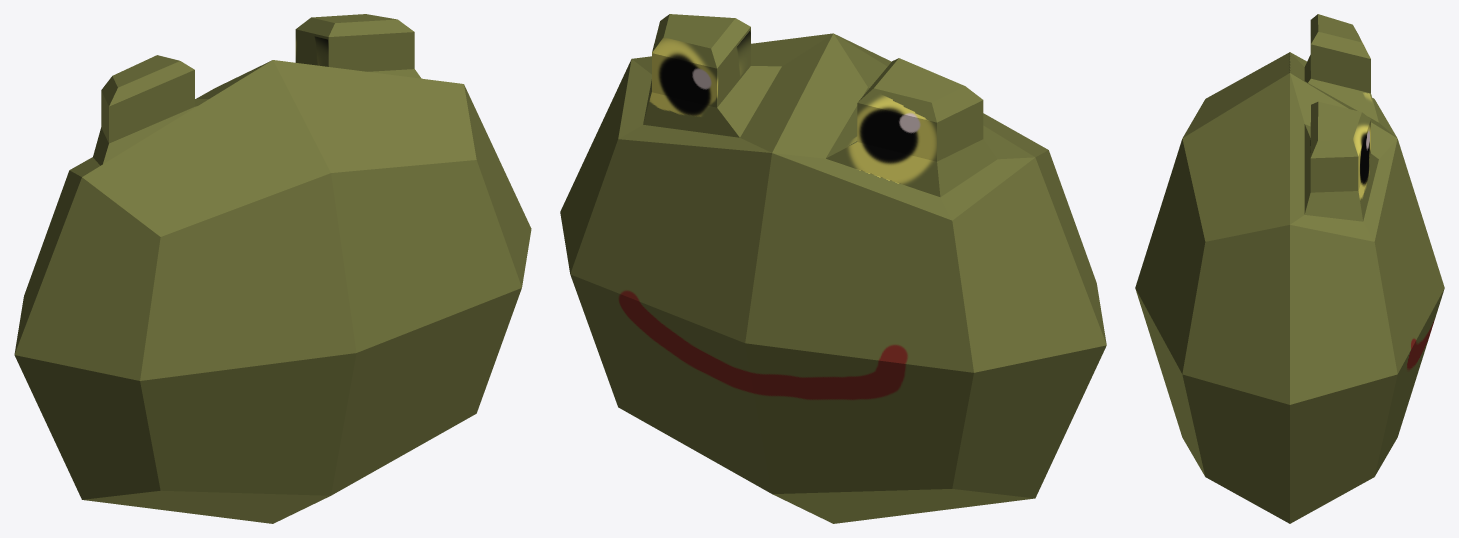
The model's file is froghead.glb.
3 renders of one model, left to right at view 1: azimuth 30°, elevation 25°; view 2: azimuth 150°, elevation 25°; view 3: azimuth 270°, elevation 25°, orthographic. The views are drawn at different scales.
Visible parts, largest first — view 1: Cube; view 2: Cube; view 3: Cube.
Part boxes in pixels (box(x1,y1,x2,y2)): Cube: box(14, 14, 531, 523); Cube: box(560, 14, 1106, 523); Cube: box(1135, 14, 1444, 523).
Size of the model in its own units: 0.2601 by 0.2263 by 0.1455.
Materials: 1 (1 with a texture image).
